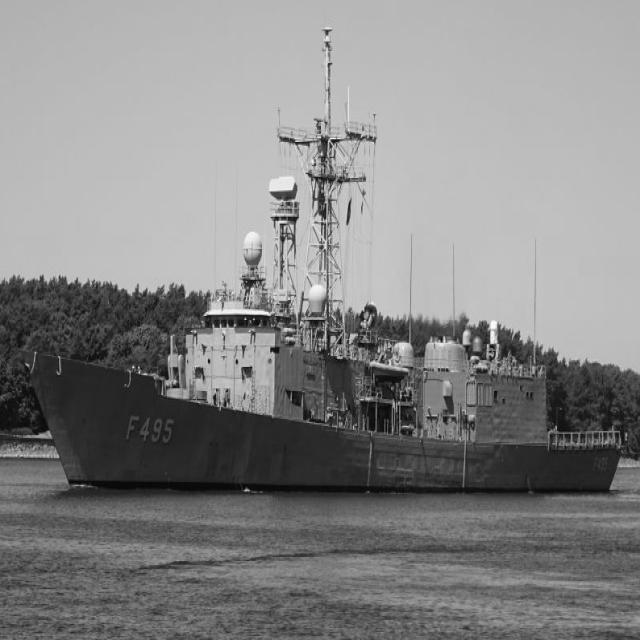Fragata: (19, 22, 622, 502)
